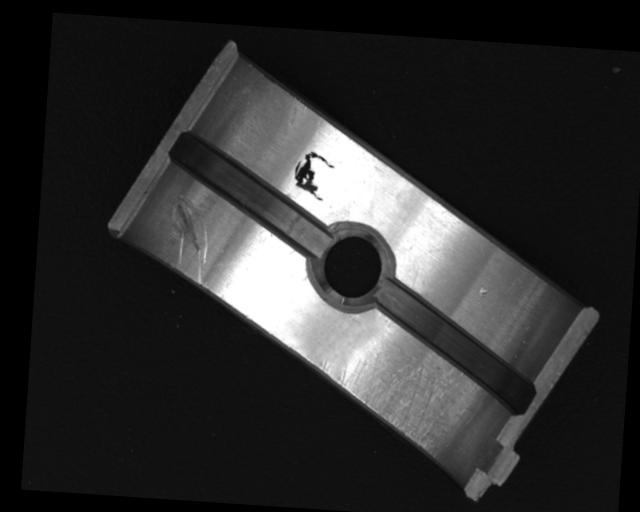blot: (291, 149, 336, 203)
bruise: (478, 286, 490, 298)
gap: (367, 280, 543, 416), (162, 131, 331, 258)
hole: (309, 221, 398, 309)
nick: (164, 192, 211, 286)
scratch: (314, 344, 483, 462)
